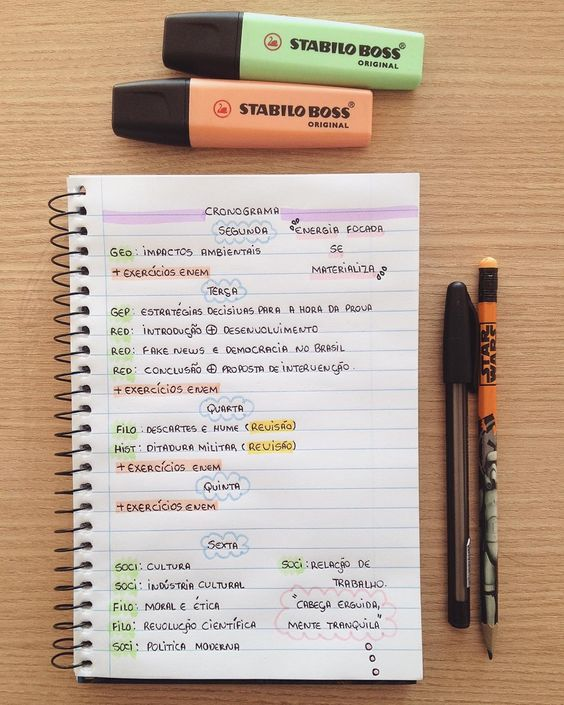page: (98, 179, 417, 671)
